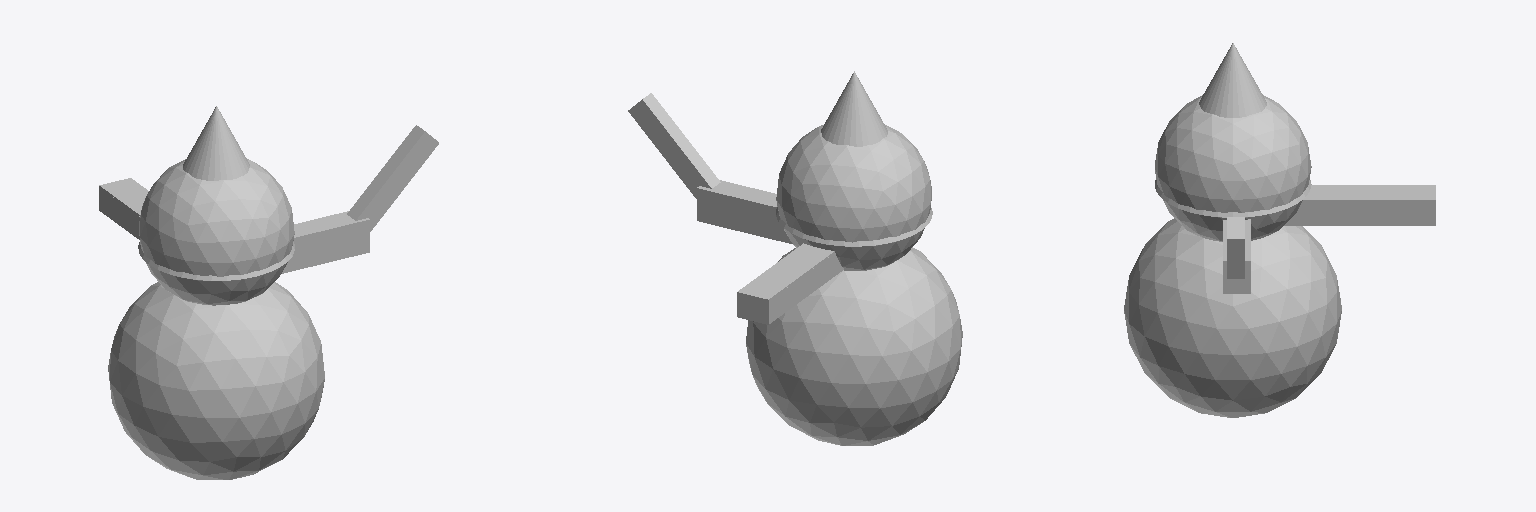
Rendered from witch.obj.
3 renders of one model, left to right at view 1: azimuth 30°, elevation 25°; view 2: azimuth 150°, elevation 25°; view 3: azimuth 270°, elevation 25°, orthographic.
Parts seen in each view (by area): view 1: Icosphere, Icosphere.001, Cone, Cube.003_Cube.004, Cube.001_Cube.002, Cube.002_Cube.003; view 2: Icosphere, Icosphere.001, Cone, Cube.003_Cube.004, Cube.002_Cube.003, Cube.001_Cube.002, Cube_Cube.001; view 3: Icosphere, Icosphere.001, Cube.002_Cube.003, Cone, Cube.001_Cube.002, Cube.003_Cube.004.
Part boxes in pixels (bbox=[...]): Icosphere: bbox=[108, 282, 324, 479]; Icosphere.001: bbox=[139, 159, 294, 305]; Cone: bbox=[138, 106, 294, 280]; Cube.003_Cube.004: bbox=[282, 211, 369, 273]; Cube.001_Cube.002: bbox=[347, 125, 438, 231]; Cube.002_Cube.003: bbox=[99, 178, 148, 239]; Icosphere: bbox=[746, 247, 962, 445]; Icosphere.001: bbox=[776, 125, 931, 270]; Cone: bbox=[776, 71, 932, 246]; Cube.003_Cube.004: bbox=[697, 180, 885, 266]; Cube.002_Cube.003: bbox=[737, 243, 843, 324]; Cube.001_Cube.002: bbox=[628, 93, 720, 198]; Cube_Cube.001: bbox=[780, 253, 840, 308]; Icosphere: bbox=[1124, 218, 1341, 417]; Icosphere.001: bbox=[1155, 95, 1311, 241]; Cube.002_Cube.003: bbox=[1284, 185, 1435, 225]; Cone: bbox=[1155, 43, 1311, 217]; Cube.001_Cube.002: bbox=[1227, 217, 1244, 278]; Cube.003_Cube.004: bbox=[1223, 219, 1250, 293].
Bounding box in the file's own units: 4.63 × 5.14 × 3.98.